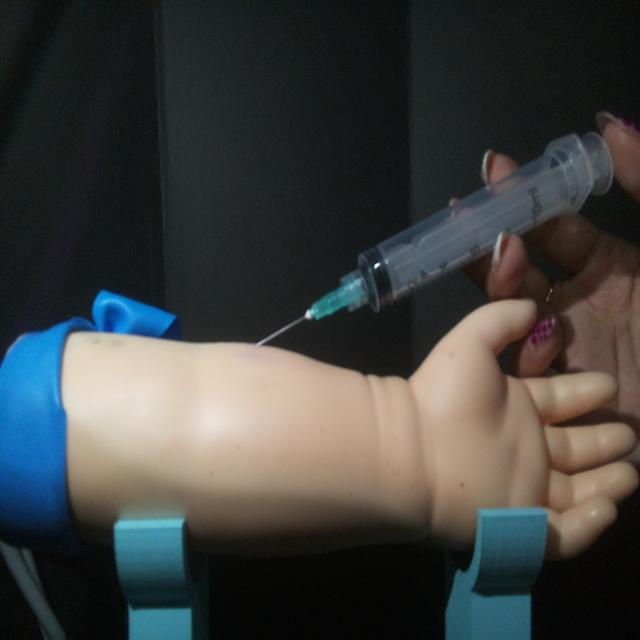27deg: (250, 124, 616, 350)
